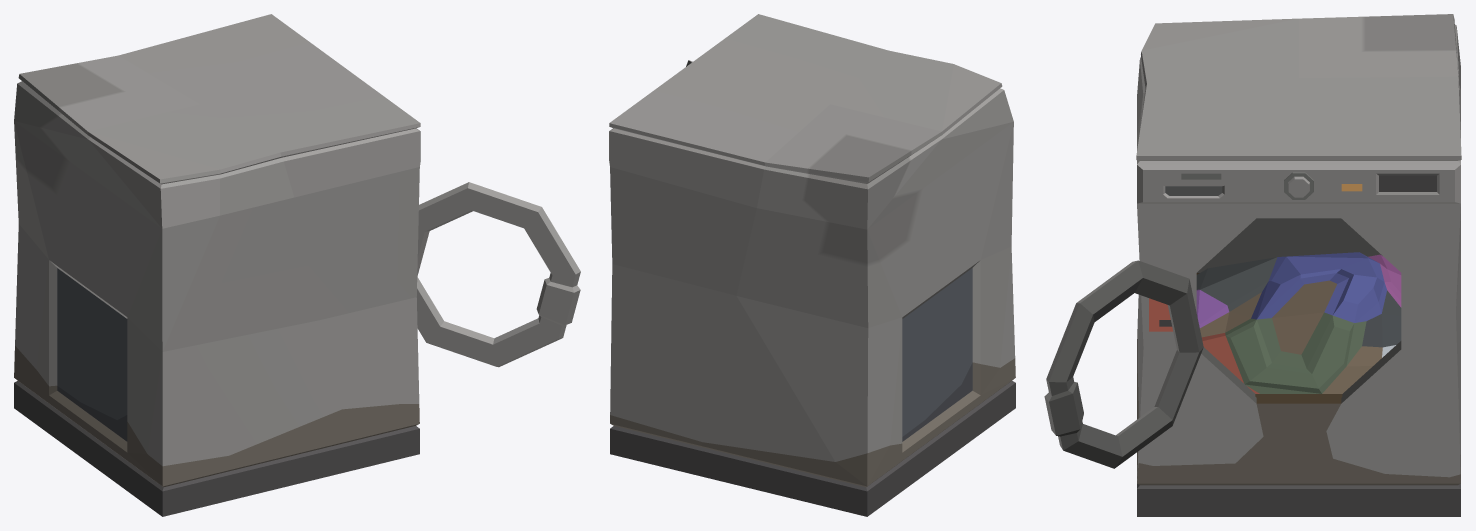
The model's file is apoc_SM_Prop_WashingMachine_01.gltf.
The picture shows the model from 3 angles, left to right: view 1: azimuth 30°, elevation 25°; view 2: azimuth 150°, elevation 25°; view 3: azimuth 270°, elevation 25°; orthographic projection. The views are drawn at different scales.
Parts seen in each view (by area): view 1: SM_Prop_WashingMachine_01; view 2: SM_Prop_WashingMachine_01; view 3: SM_Prop_WashingMachine_01.
Part boxes in pixels (x1,y1,x2,y2): SM_Prop_WashingMachine_01: [14, 14, 580, 516]; SM_Prop_WashingMachine_01: [609, 14, 1015, 516]; SM_Prop_WashingMachine_01: [1044, 14, 1461, 516].
Size of the model in its own units: 1.47 by 1.25 by 1.29.
Materials: 1 (1 with a texture image).
